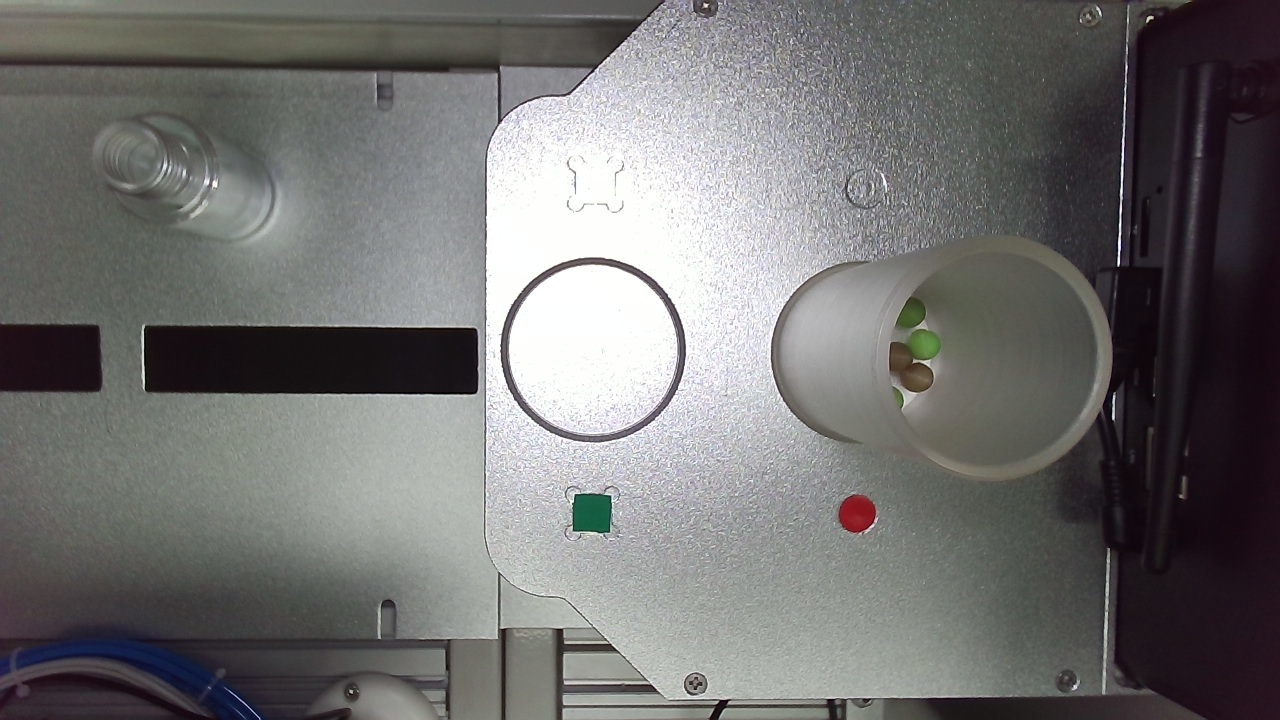XLabel: (475, 73, 541, 139)
YLabel: (905, 67, 978, 140)
none: (345, 206, 674, 539), (801, 198, 1122, 526)
